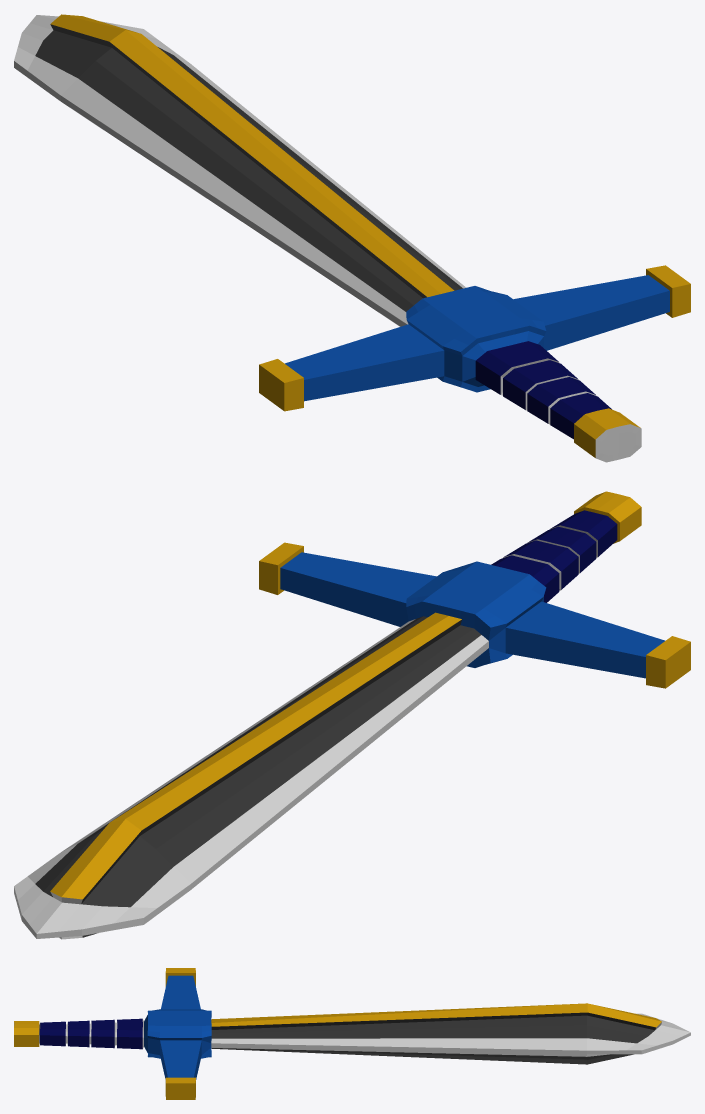
File: soard_02.obj
3 renders of one model, top to bottom at view 1: azimuth 30°, elevation 25°; view 2: azimuth 150°, elevation 25°; view 3: azimuth 270°, elevation 25°, orthographic. The views are drawn at different scales.
Visible parts, largest first — view 1: Cube; view 2: Cube; view 3: Cube.
Part boxes in pixels (x1,y1,x2,y2): Cube: [14, 14, 690, 462]; Cube: [14, 491, 690, 939]; Cube: [14, 968, 690, 1099].
Bounding box in the file's own units: 4 × 0.9877 × 9.91.
